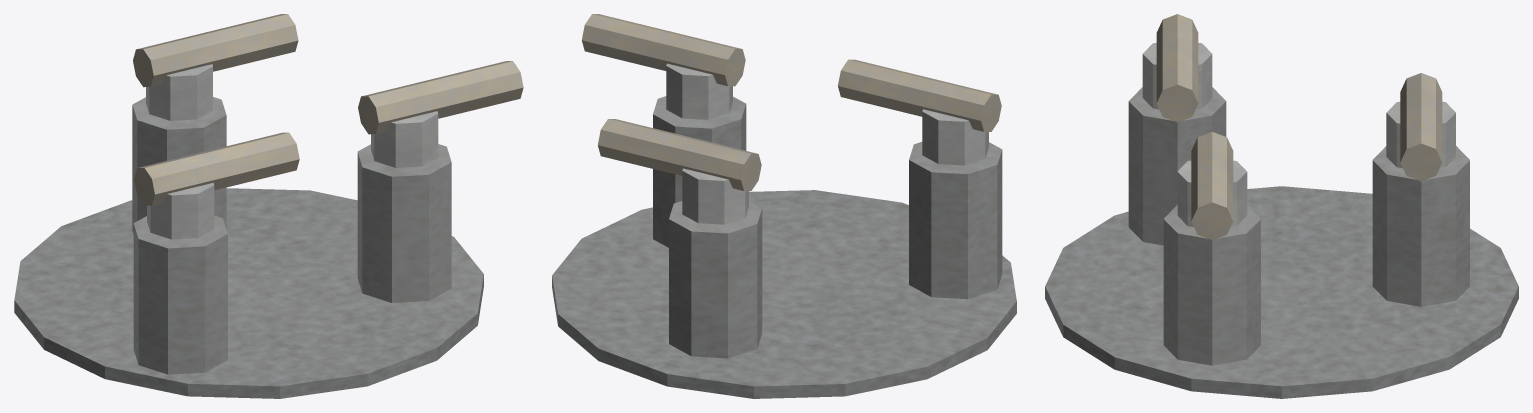
Rendered from com_rocket_squad.glb.
3 renders of one model, left to right at view 1: azimuth 30°, elevation 25°; view 2: azimuth 150°, elevation 25°; view 3: azimuth 270°, elevation 25°, orthographic.
Visible parts, largest first — view 1: com_rocket_squad; view 2: com_rocket_squad; view 3: com_rocket_squad.
Boxes of the visible parts, box(x1,y1,x2,y2) form: com_rocket_squad: box(14, 14, 523, 398); com_rocket_squad: box(552, 14, 1016, 398); com_rocket_squad: box(1045, 14, 1518, 398).
Bounding box in the file's own units: 0.72 × 0.33 × 0.68.
Materials: 1 (1 with a texture image).
